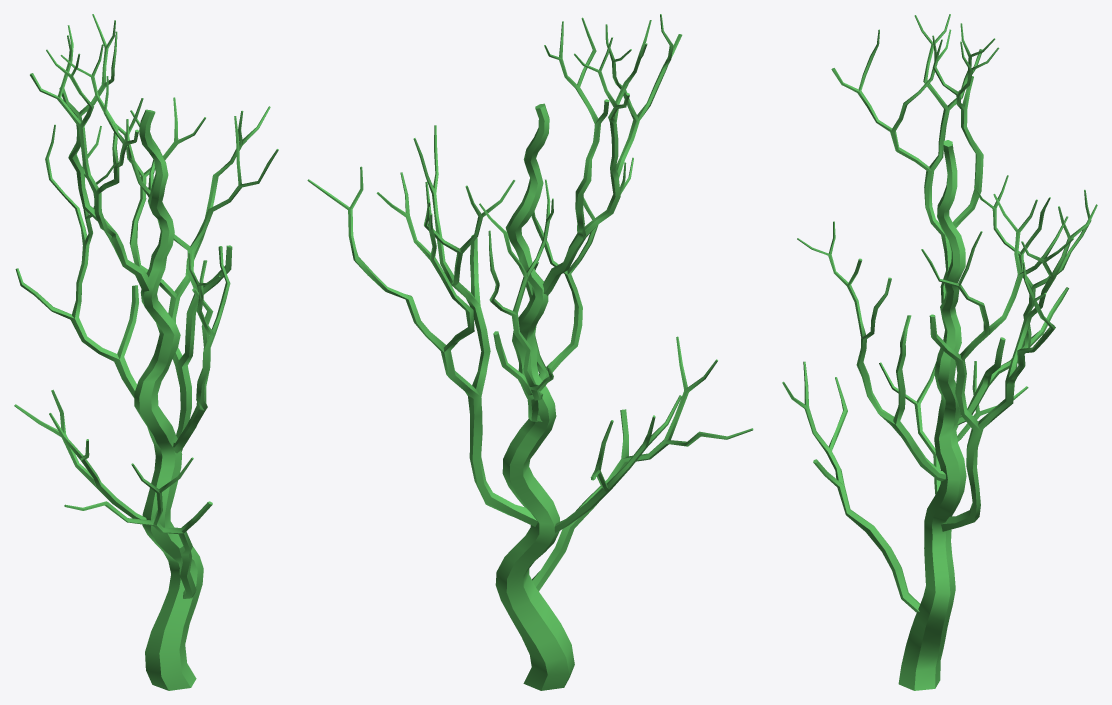
Rendered from jungle_wiggle_tree_E_curved.fbx.
3 renders of one model, left to right at view 1: azimuth 30°, elevation 25°; view 2: azimuth 150°, elevation 25°; view 3: azimuth 270°, elevation 25°, orthographic. The views are drawn at different scales.
Parts seen in each view (by area): view 1: jungle_wiggle_tree_E_curved_trunk, jungle_wiggle_tree_E_curved_B, jungle_wiggle_tree_E_curved_F, jungle_wiggle_tree_E_curved_E, jungle_wiggle_tree_E_curved_C, jungle_wiggle_tree_E_curved_A, jungle_wiggle_tree_E_curved_D; view 2: jungle_wiggle_tree_E_curved_trunk, jungle_wiggle_tree_E_curved_B, jungle_wiggle_tree_E_curved_F, jungle_wiggle_tree_E_curved_E, jungle_wiggle_tree_E_curved_A, jungle_wiggle_tree_E_curved_C, jungle_wiggle_tree_E_curved_D; view 3: jungle_wiggle_tree_E_curved_trunk, jungle_wiggle_tree_E_curved_B, jungle_wiggle_tree_E_curved_F, jungle_wiggle_tree_E_curved_C, jungle_wiggle_tree_E_curved_A, jungle_wiggle_tree_E_curved_E, jungle_wiggle_tree_E_curved_D.
Boxes of the visible parts, x1,y1,x2,y2 form: jungle_wiggle_tree_E_curved_trunk: [134, 109, 203, 690]; jungle_wiggle_tree_E_curved_B: [97, 97, 278, 451]; jungle_wiggle_tree_E_curved_F: [30, 14, 151, 292]; jungle_wiggle_tree_E_curved_E: [15, 124, 138, 397]; jungle_wiggle_tree_E_curved_C: [173, 246, 230, 453]; jungle_wiggle_tree_E_curved_A: [64, 457, 212, 598]; jungle_wiggle_tree_E_curved_D: [14, 389, 146, 526]; jungle_wiggle_tree_E_curved_trunk: [495, 103, 574, 690]; jungle_wiggle_tree_E_curved_B: [307, 125, 537, 526]; jungle_wiggle_tree_E_curved_F: [543, 14, 682, 295]; jungle_wiggle_tree_E_curved_E: [479, 179, 553, 421]; jungle_wiggle_tree_E_curved_A: [532, 336, 753, 591]; jungle_wiggle_tree_E_curved_C: [526, 157, 633, 380]; jungle_wiggle_tree_E_curved_D: [554, 395, 681, 532]; jungle_wiggle_tree_E_curved_trunk: [898, 140, 966, 690]; jungle_wiggle_tree_E_curved_B: [921, 194, 1097, 531]; jungle_wiggle_tree_E_curved_F: [831, 14, 999, 303]; jungle_wiggle_tree_E_curved_C: [797, 221, 945, 481]; jungle_wiggle_tree_E_curved_A: [782, 361, 920, 612]; jungle_wiggle_tree_E_curved_E: [957, 175, 1091, 424]; jungle_wiggle_tree_E_curved_D: [879, 361, 1028, 494].
Size of the model in its own units: 552 by 1094 by 502.
